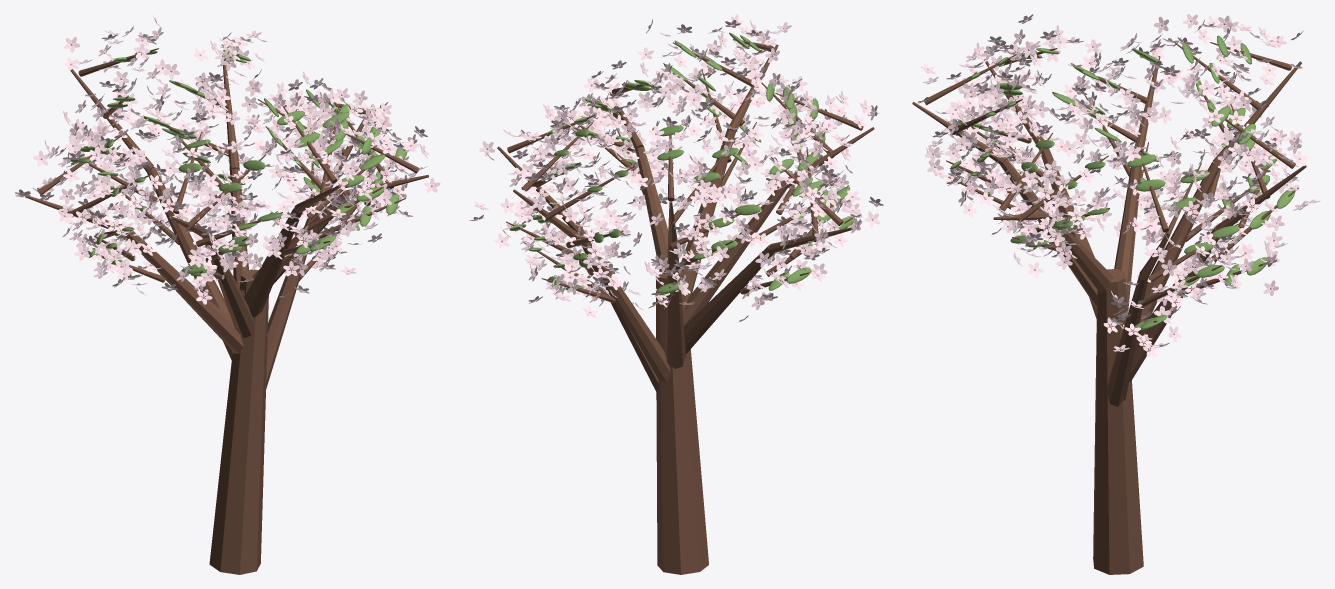
Rendered from cherry-blossom-2.glb.
The picture shows the model from 3 angles, left to right: view 1: azimuth 30°, elevation 25°; view 2: azimuth 150°, elevation 25°; view 3: azimuth 270°, elevation 25°; orthographic projection. The views are drawn at different scales.
Visible parts, largest first — view 1: Geometry Nodes blossom canopy.001, Branch.001, Cherry leaf.001; view 2: Geometry Nodes blossom canopy.001, Branch.001, Cherry leaf.001; view 3: Geometry Nodes blossom canopy.001, Branch.001, Cherry leaf.001.
Boxes of the visible parts, x1,y1,x2,y2 form: Geometry Nodes blossom canopy.001: [15, 17, 440, 304]; Branch.001: [25, 48, 428, 574]; Cherry leaf.001: [70, 50, 407, 276]; Geometry Nodes blossom canopy.001: [469, 14, 883, 321]; Branch.001: [497, 39, 874, 574]; Cherry leaf.001: [509, 32, 854, 295]; Geometry Nodes blossom canopy.001: [917, 14, 1320, 356]; Branch.001: [912, 42, 1306, 574]; Cherry leaf.001: [950, 35, 1294, 330].
Size of the model in its own units: 3.16 by 4.19 by 2.88.
